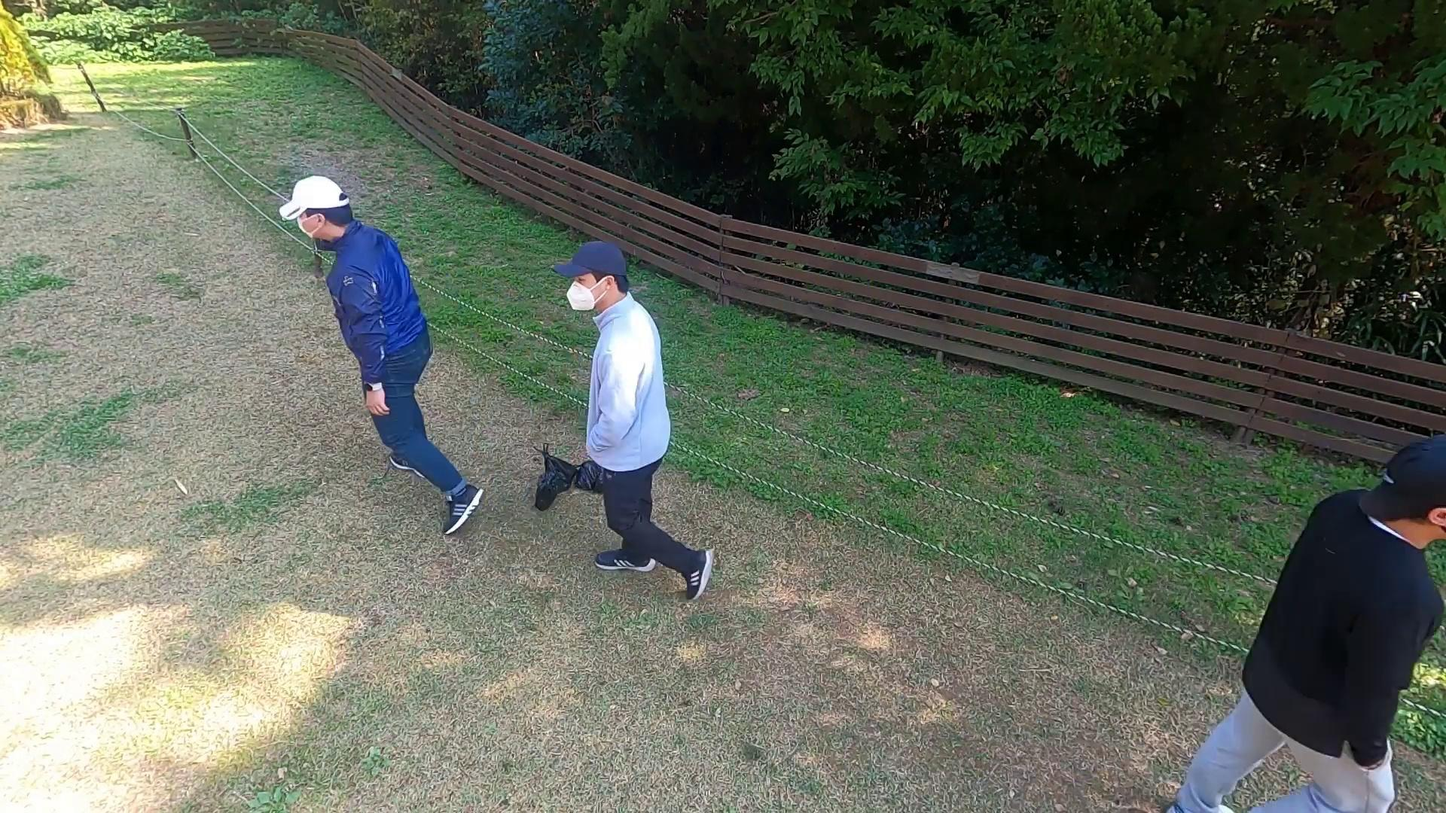person: (1158, 436, 1446, 813), (277, 175, 486, 537), (551, 239, 717, 600)
trash: (540, 442, 576, 492), (576, 459, 605, 494), (537, 472, 559, 511)
